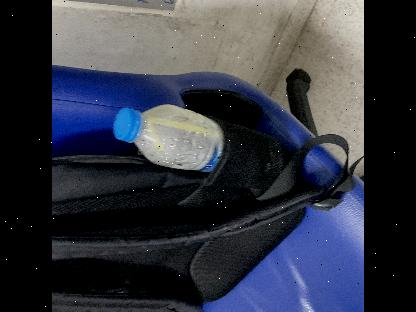Plastic Bottle: (112, 100, 226, 172)
